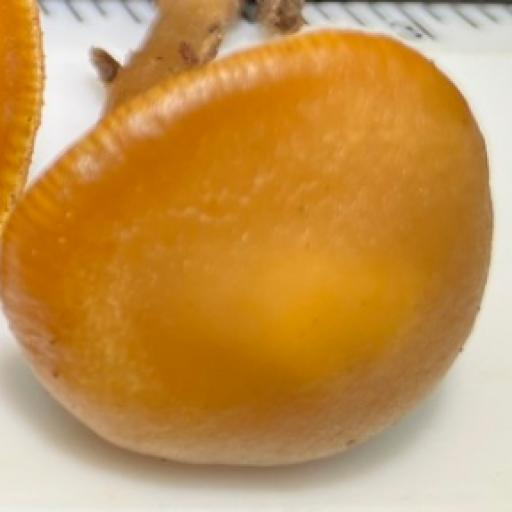mushroom: (4, 4, 502, 482)
